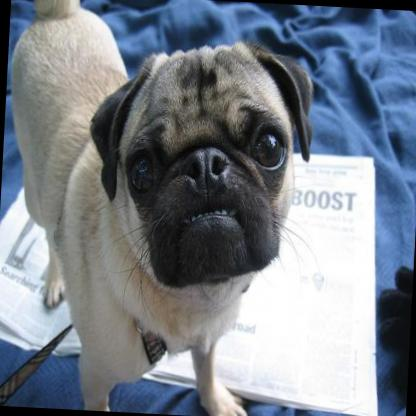pug: (0, 0, 317, 416)
